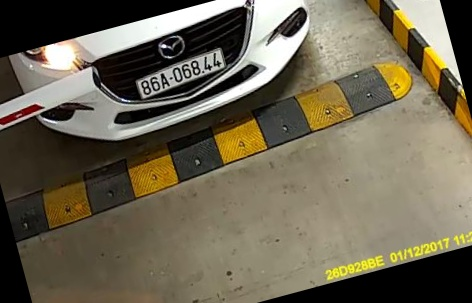plate: (124, 46, 241, 103)
